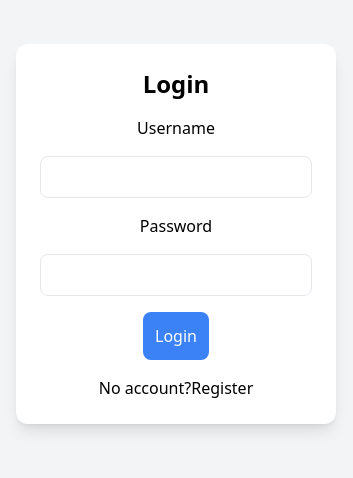
Login Component › shows error message on login failure
Step 1. Type "wronguser" into the field labelled "Username" → (176, 177), box [40,156,312,198]
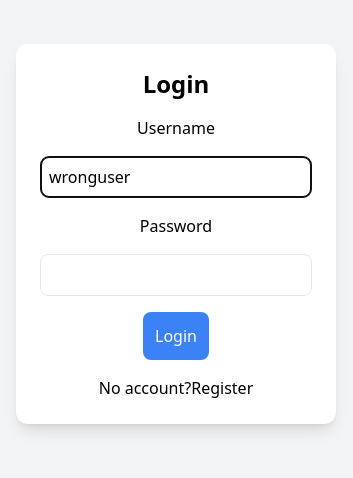
Step 2. Type "wrongpass" into the password field labelled "Password" → (176, 275), box [40,254,312,296]
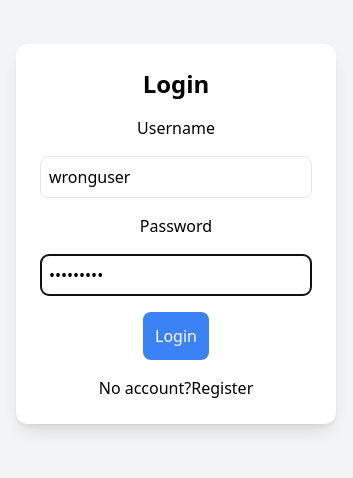
Step 3. Click the button "Login" → (176, 336), box [143,312,209,360]
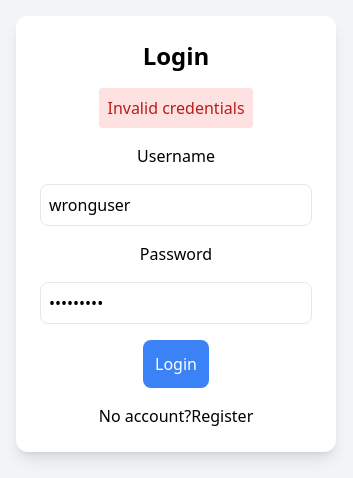
Check: the button "Login" is enabled, box [143,340,209,388]
Check: the text "Invalid credentials" is shown, box [100,88,253,128]
